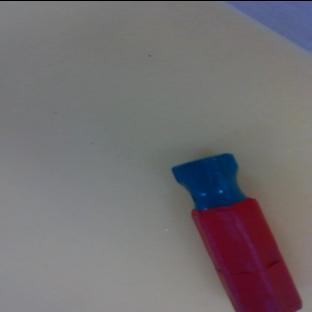part_2_good: (171, 141, 306, 312)
